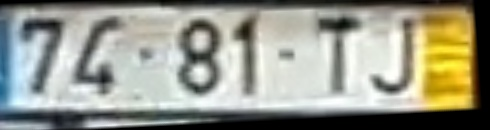1: (229, 12, 266, 104)
4: (68, 19, 121, 101)
7: (18, 16, 69, 101)
8: (173, 14, 226, 101)
J: (367, 15, 420, 101)
T: (315, 15, 365, 101)
